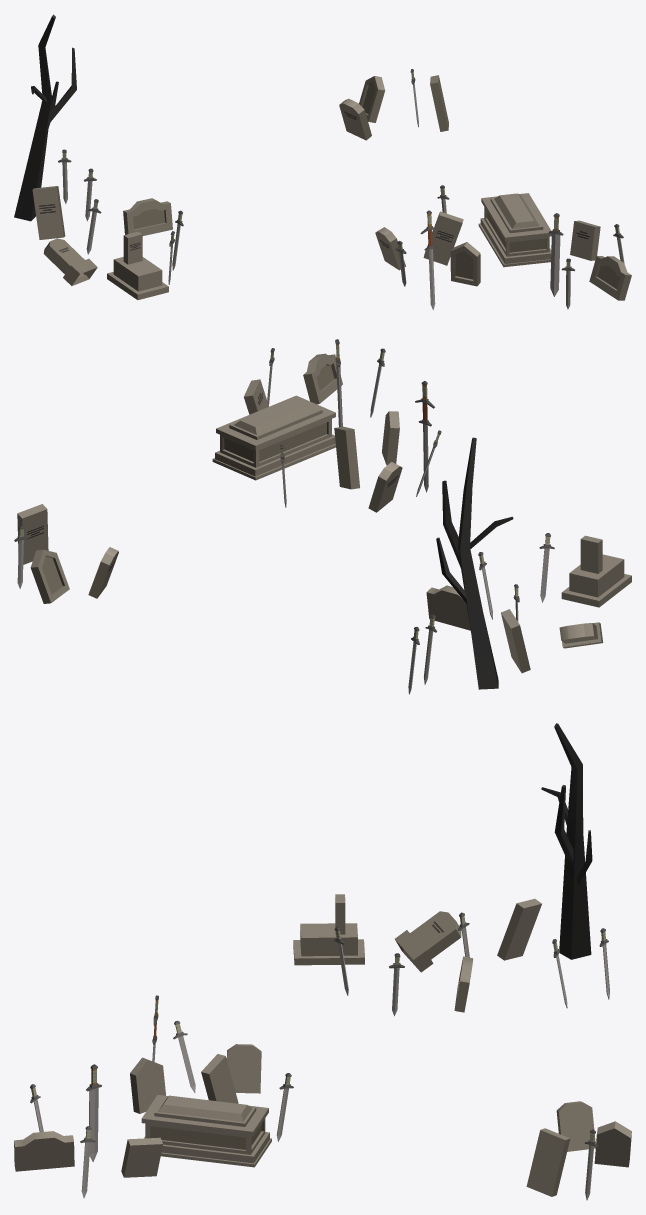
The model's file is SF_Env_Undead_Preset_02.fbx.
The picture shows the model from 3 angles, top to bottom: view 1: azimuth 30°, elevation 25°; view 2: azimuth 150°, elevation 25°; view 3: azimuth 270°, elevation 25°; orthographic projection. The views are drawn at different scales.
Visible parts, largest first — view 1: SF_Env_Undead_Preset_02; view 2: SF_Env_Undead_Preset_02; view 3: SF_Env_Undead_Preset_02.
Part boxes in pixels (box(x1,y1,x2,y2)): SF_Env_Undead_Preset_02: box(14, 14, 631, 310); SF_Env_Undead_Preset_02: box(14, 339, 631, 694); SF_Env_Undead_Preset_02: box(14, 723, 631, 1200).
Bounding box in the file's own units: 18.11 × 8.57 × 17.96.
